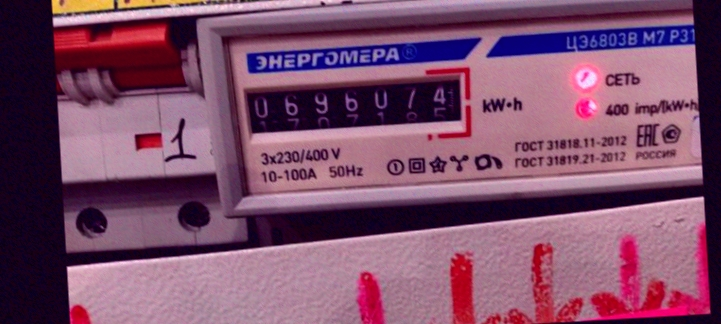0: (250, 93, 270, 118), (371, 84, 389, 110)
4: (429, 81, 447, 104)
5: (432, 106, 449, 122)
6: (342, 86, 361, 113), (282, 92, 300, 116)
7: (401, 84, 420, 110)
9: (312, 89, 329, 116)
screen: (233, 63, 476, 145)
